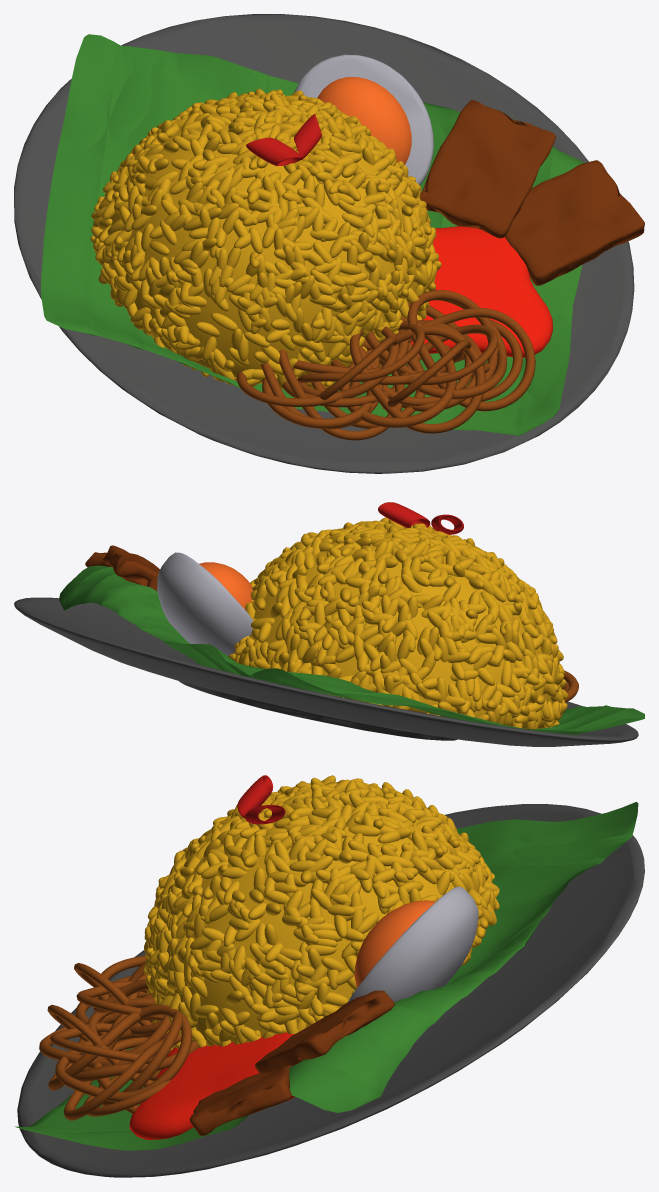
Rendered from sari-pilav.glb.
3 views of the same model, one above another, from view 1: azimuth 30°, elevation 25°; view 2: azimuth 150°, elevation 25°; view 3: azimuth 270°, elevation 25° (orthographic). The views are drawn at different scales.
Parts seen in each view (by area): view 1: Circle.178, Plane.070, Cube.057, Cube.058, Cube.054, Cube.056, Circle.180, Torus Knot 2 x 3.006, Torus Knot 2 x 3.012, Sphere.018, Torus Knot 2 x 3.013, Torus Knot 2 x 3.014 (+9 smaller); view 2: Circle.178, Plane.070, Circle.180, Cube.054, Cube.057, Sphere.018, Cylinder.021, Cylinder.020, Cube.058; view 3: Circle.178, Plane.070, Circle.180, Cube.056, Cube.054, Torus Knot 2 x 3.012, Cube.057, Cube.058, Torus Knot 2 x 3.006, Sphere.018, Torus Knot 2 x 3.014, Torus Knot 2 x 3.004 (+5 smaller).
Boxes of the visible parts, x1,y1,x2,y2 form: Circle.178: (14,14,634,473); Plane.070: (41,34,584,435); Cube.057: (420,100,555,238); Cube.058: (505,160,644,285); Cube.054: (110,101,427,383); Cube.056: (411,226,552,357); Circle.180: (294,54,433,185); Torus Knot 2 x 3.006: (340,316,485,433); Torus Knot 2 x 3.012: (397,295,535,411); Sphere.018: (317,77,411,164); Torus Knot 2 x 3.013: (262,340,404,440); Torus Knot 2 x 3.014: (382,324,497,408); Circle.178: (14,597,638,746); Plane.070: (59,565,644,734); Circle.180: (157,552,253,655); Cube.054: (249,542,552,728); Cube.057: (103,545,159,591); Sphere.018: (199,562,252,609); Cylinder.021: (378,502,430,527); Cylinder.020: (431,514,463,534); Cube.058: (85,552,160,570); Circle.178: (17,804,644,1177); Plane.070: (15,802,638,1150); Circle.180: (347,886,478,1002); Cube.056: (129,1032,296,1139); Cube.054: (167,797,454,1042); Torus Knot 2 x 3.012: (55,1005,191,1120); Cube.057: (255,990,394,1072); Cube.058: (189,1065,291,1135); Torus Knot 2 x 3.006: (39,979,171,1090); Sphere.018: (354,900,435,987); Torus Knot 2 x 3.014: (47,1004,153,1086); Torus Knot 2 x 3.004: (74,993,198,1105).
Bounding box in the file's own units: 0.2801 × 0.1263 × 0.2488.
